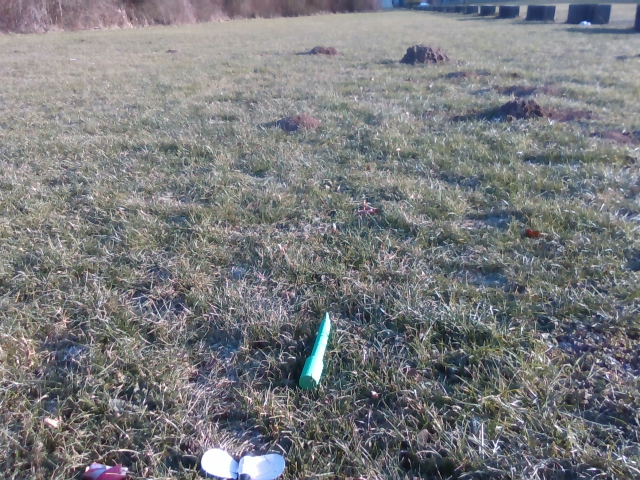Probe: (296, 309, 336, 392)
